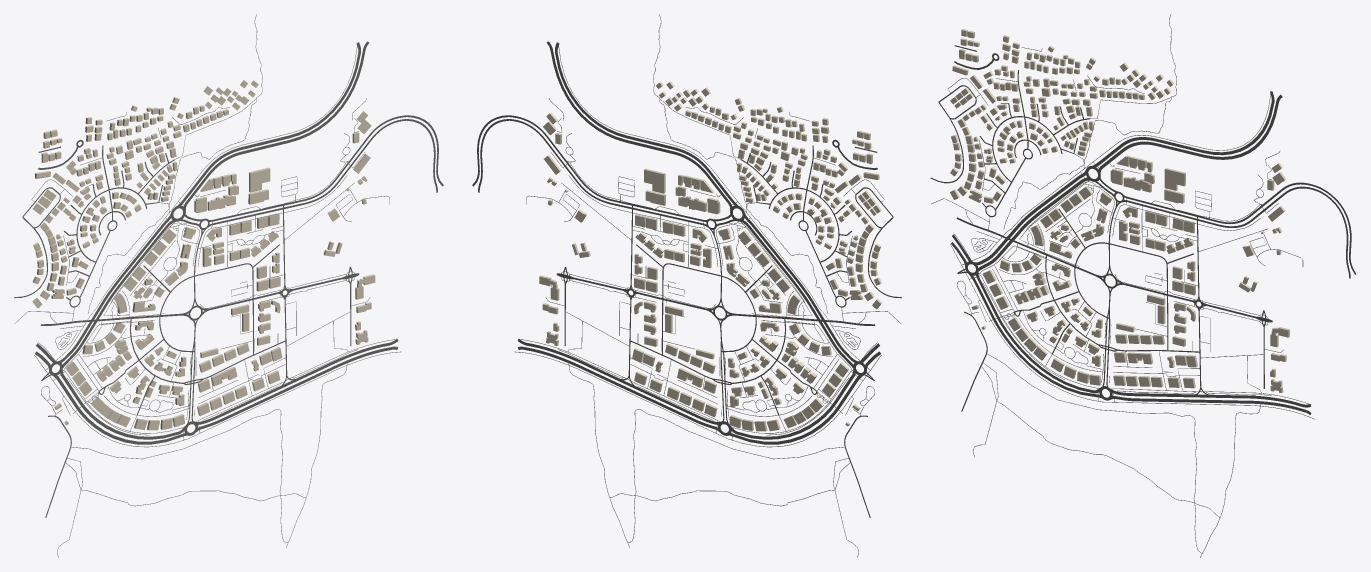
File: historic-palestine-08_26_3496_3208.glb
The picture shows the model from 3 angles, left to right: view 1: azimuth 30°, elevation 25°; view 2: azimuth 150°, elevation 25°; view 3: azimuth 330°, elevation 25°; orthographic projection.
Visible parts, largest first — view 1: Road חיים ויצמן.001, Road חיים ויצמן.003, Road אלברט איינשטיין.001, Road אלברט איינשטיין, Road שדרות בן גוריון.001, Road שדרות בן גוריון, Road שדרות בן גוריון.003, Road שדרות בן גוריון.002, Road חיים ויצמן, Road חיים ויצמן.002; view 2: Road חיים ויצמן.001, Road חיים ויצמן.003, Road אלברט איינשטיין.001, Road אלברט איינשטיין, Road שדרות בן גוריון.001, Road שדרות בן גוריון, Road שדרות בן גוריון.003, Road שדרות בן גוריון.002, Road חיים ויצמן, Road חיים ויצמן.002; view 3: Road חיים ויצמן.001, Road חיים ויצמן.003, Road אלברט איינשטיין, Road אלברט איינשטיין.001, Road שדרות בן גוריון.001, Road שדרות בן גוריון, Road שדרות בן גוריון.003, Road שדרות בן גוריון.002, Road חיים ויצמן, Road חיים ויצמן.002.
Part boxes in pixels (<box>): Road חיים ויצמן.001: <box>183,41,369,211</box>; Road חיים ויצמן.003: <box>177,42,360,207</box>; Road אלברט איינשטיין.001: <box>207,115,443,221</box>; Road אלברט איינשטיין: <box>207,119,437,227</box>; Road שדרות בן גוריון.001: <box>194,346,398,432</box>; Road שדרות בן גוריון: <box>194,339,398,424</box>; Road שדרות בן גוריון.003: <box>52,373,189,444</box>; Road שדרות בן גוריון.002: <box>60,369,187,439</box>; Road חיים ויצמן: <box>57,212,173,363</box>; Road חיים ויצמן.002: <box>60,219,176,368</box>; Road חיים ויצמן.001: <box>546,41,732,211</box>; Road חיים ויצמן.003: <box>555,42,738,205</box>; Road אלברט איינשטיין.001: <box>472,115,708,221</box>; Road אלברט איינשטיין: <box>478,119,708,227</box>; Road שדרות בן גוריון.001: <box>517,346,721,432</box>; Road שדרות בן גוריון: <box>517,339,721,424</box>; Road שדרות בן גוריון.003: <box>726,373,863,444</box>; Road שדרות בן גוריון.002: <box>728,369,855,439</box>; Road חיים ויצמן: <box>743,212,857,363</box>; Road חיים ויצמן.002: <box>739,219,854,368</box>; Road חיים ויצמן.001: <box>1098,94,1282,174</box>; Road חיים ויצמן.003: <box>1092,91,1274,168</box>; Road אלברט איינשטיין: <box>1122,186,1350,278</box>; Road אלברט איינשטיין.001: <box>1122,182,1356,274</box>; Road שדרות בן גוריון.001: <box>1109,396,1311,414</box>; Road שדרות בן גוריון: <box>1109,389,1311,407</box>; Road שדרות בן גוריון.003: <box>969,272,1104,399</box>; Road שדרות בן גוריון.002: <box>975,271,1101,393</box>; Road חיים ויצמן: <box>973,169,1088,265</box>; Road חיים ויצמן.002: <box>977,177,1091,271</box>.
Bounding box in the file's own units: 1234 × 1486 × 13.6.
